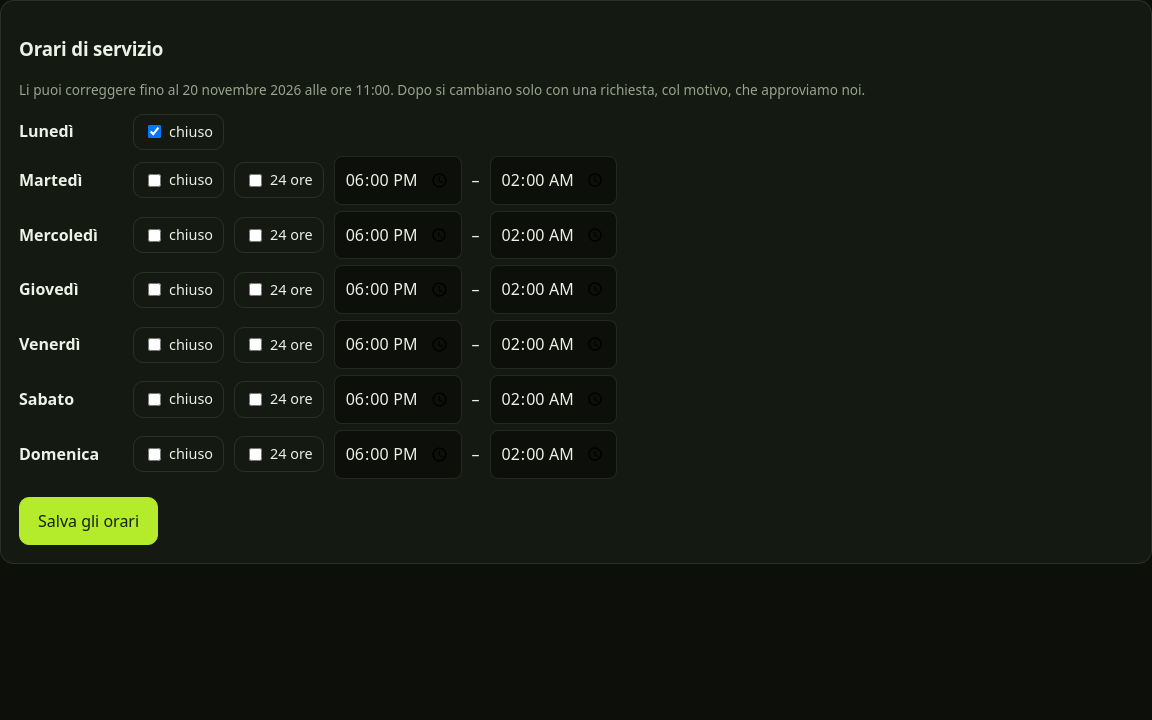
Test case: nell’area del titolare › nei 7 giorni li corregge da sé: si dice fino a quando, e «Salva» manda gli orari puliti
expect the text "Li puoi correggere fino al 20 novembre 2026" is shown: met, box [19,80,865,99]
Replace the text in the time field named "Martedì, apertura" with "19:00" at (398, 180), box [334,156,462,205]
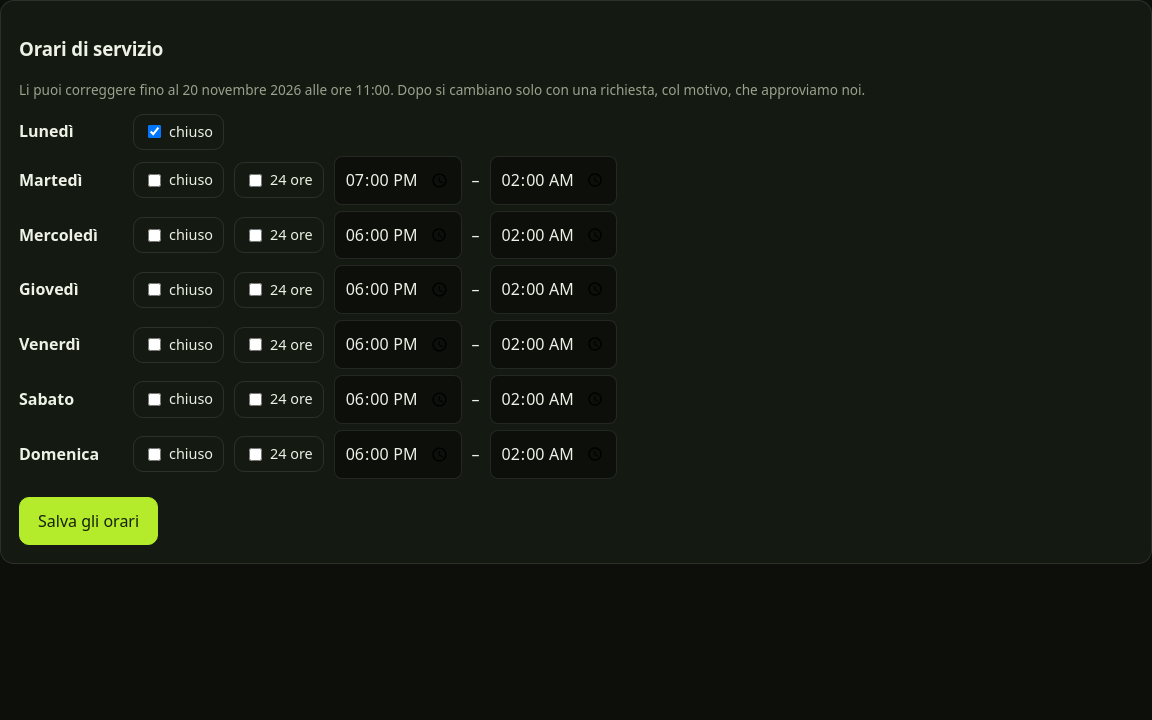
Click the button "Salva gli orari" at (89, 521), box [19,497,158,546]
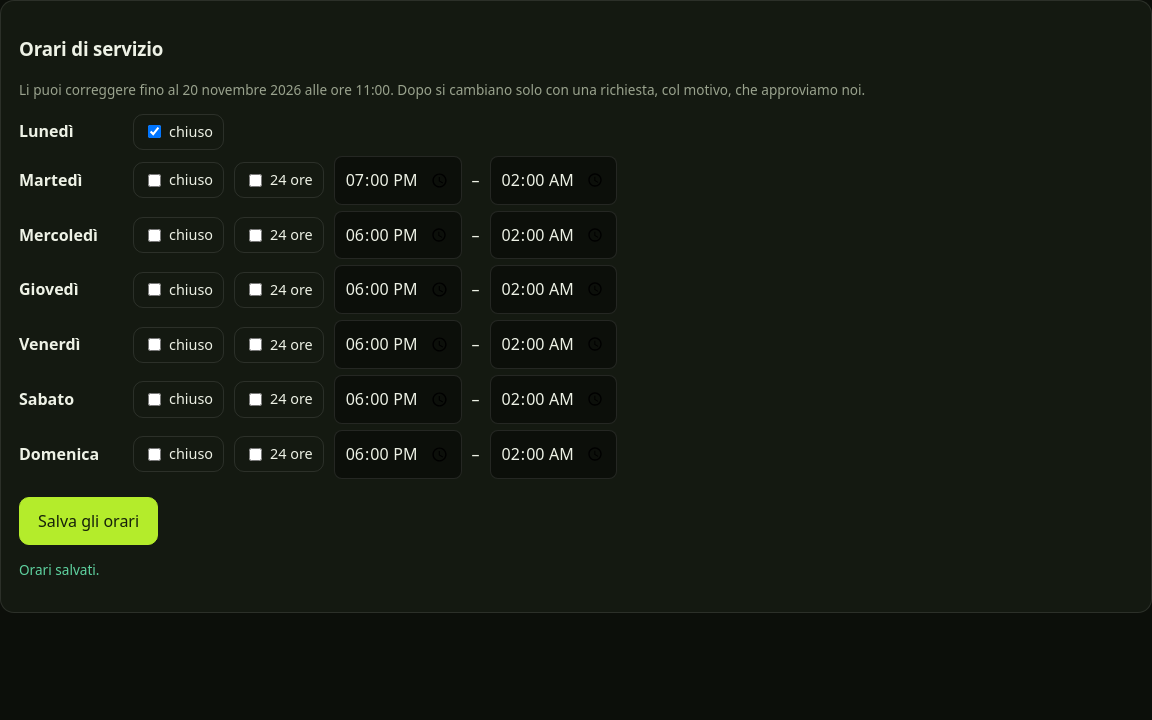
expect the text "Orari salvati." is shown: met, box [19,560,100,579]
